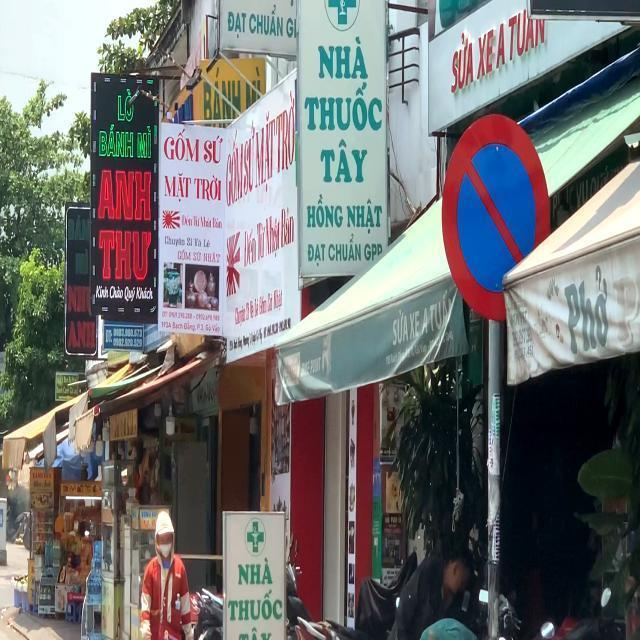131a-cam-do-xe: (441, 117, 551, 315)
